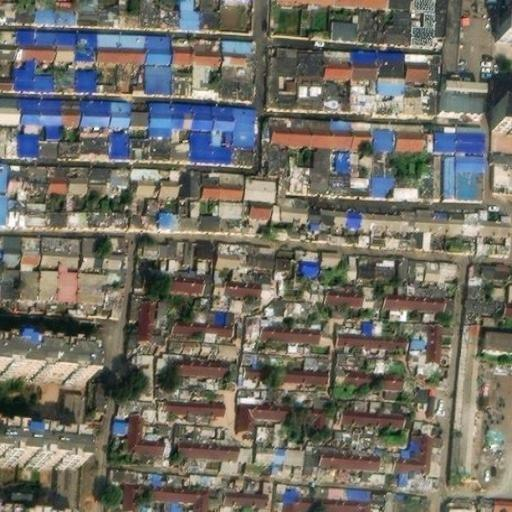building: (451, 312, 483, 471), (234, 396, 326, 428), (142, 478, 222, 512), (282, 488, 371, 512), (241, 357, 327, 379), (127, 287, 166, 335), (401, 369, 439, 416), (236, 382, 324, 402), (394, 424, 434, 468), (463, 257, 510, 294), (383, 277, 446, 304), (109, 463, 144, 511), (253, 415, 317, 441), (137, 264, 212, 286), (370, 482, 425, 512), (126, 409, 166, 450), (332, 325, 410, 346), (331, 363, 403, 385), (224, 261, 275, 292), (454, 144, 485, 194), (199, 191, 241, 225), (437, 80, 483, 111), (428, 143, 456, 193), (255, 313, 318, 335), (159, 393, 222, 415), (176, 434, 239, 456), (173, 310, 233, 333), (138, 231, 177, 266), (369, 141, 396, 191), (442, 0, 463, 64), (198, 163, 244, 192), (346, 247, 397, 273), (333, 423, 406, 441), (324, 444, 385, 465), (45, 158, 89, 187), (89, 159, 131, 188), (159, 161, 199, 190), (159, 195, 199, 224), (340, 402, 401, 421), (254, 437, 304, 460), (7, 157, 46, 186), (240, 192, 273, 226), (403, 79, 438, 109), (404, 45, 440, 74), (132, 348, 155, 393), (221, 34, 255, 63), (219, 64, 254, 92), (171, 334, 232, 350), (6, 194, 45, 219), (347, 149, 370, 190), (173, 353, 228, 370), (214, 234, 247, 262), (461, 291, 500, 314), (315, 478, 371, 494), (425, 116, 457, 144), (60, 387, 81, 429), (130, 160, 160, 189), (243, 164, 273, 193), (349, 77, 378, 107), (246, 236, 277, 264), (394, 115, 425, 143), (177, 419, 225, 437), (327, 148, 348, 189), (426, 252, 460, 277), (270, 39, 299, 68), (323, 41, 352, 70), (321, 76, 350, 105), (350, 43, 380, 71), (1, 499, 65, 512), (193, 33, 222, 61), (192, 63, 221, 91), (269, 74, 297, 103), (456, 118, 486, 145), (377, 78, 404, 108), (80, 96, 111, 122), (325, 277, 363, 298), (87, 204, 131, 222), (378, 44, 406, 72), (297, 40, 324, 69), (221, 483, 267, 500), (80, 232, 106, 262), (330, 203, 371, 222), (493, 1, 512, 42), (396, 250, 427, 275), (85, 375, 106, 411), (144, 31, 171, 59), (78, 266, 104, 295), (296, 75, 322, 104), (394, 171, 429, 192), (44, 203, 87, 220), (143, 61, 170, 88), (476, 491, 512, 511), (231, 127, 255, 157), (312, 147, 329, 189), (105, 232, 128, 263), (96, 29, 121, 57), (120, 30, 145, 58), (289, 159, 313, 188), (175, 232, 198, 262), (80, 129, 110, 152), (426, 320, 444, 358), (116, 391, 152, 410), (294, 245, 321, 270), (95, 59, 120, 86), (119, 60, 144, 87), (168, 62, 193, 89), (370, 115, 395, 142), (170, 32, 194, 60), (190, 125, 212, 155), (295, 275, 326, 296), (481, 327, 512, 348), (232, 101, 256, 128), (290, 112, 314, 139), (266, 111, 290, 138), (267, 142, 291, 169), (55, 27, 78, 55), (57, 265, 79, 294), (40, 231, 61, 261), (20, 230, 41, 260), (60, 231, 81, 261), (211, 126, 232, 156), (148, 98, 171, 125), (54, 57, 77, 84), (0, 229, 20, 260), (34, 26, 56, 54), (445, 210, 479, 228), (196, 233, 216, 263), (170, 99, 193, 125), (33, 56, 55, 83), (358, 14, 386, 35), (331, 12, 359, 33), (38, 265, 58, 294), (19, 264, 39, 293), (104, 267, 124, 296), (110, 97, 132, 123), (212, 100, 233, 127), (75, 58, 96, 85), (350, 114, 371, 141), (77, 28, 97, 56), (279, 200, 310, 218), (127, 131, 152, 153), (59, 95, 80, 121), (200, 0, 221, 26), (40, 94, 60, 121), (14, 55, 34, 82), (331, 113, 351, 140), (478, 211, 508, 229), (16, 25, 35, 53), (179, 0, 200, 25), (370, 205, 399, 223), (21, 94, 41, 120), (192, 100, 212, 126), (385, 16, 411, 36), (444, 231, 478, 246), (16, 127, 39, 149), (490, 159, 512, 182), (96, 0, 120, 21), (398, 207, 426, 225), (130, 205, 159, 222), (131, 97, 149, 124), (38, 128, 60, 150), (138, 0, 159, 23), (275, 244, 295, 268), (313, 113, 331, 139), (151, 132, 172, 154), (60, 129, 81, 151), (477, 233, 507, 248), (320, 247, 342, 267), (171, 133, 191, 155), (119, 0, 139, 22), (369, 227, 398, 242), (75, 0, 96, 20), (397, 228, 424, 243), (35, 0, 56, 18), (425, 208, 446, 226), (110, 130, 127, 152), (309, 202, 331, 219), (56, 0, 75, 19), (448, 500, 476, 512), (16, 0, 35, 17), (362, 280, 378, 299), (424, 230, 445, 244), (492, 147, 512, 160), (113, 413, 128, 429), (499, 293, 512, 309), (387, 0, 412, 4)
